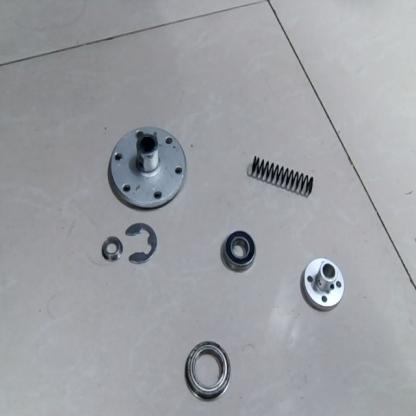FOD: (106, 122, 188, 214), (248, 150, 319, 201), (183, 338, 234, 403), (298, 254, 345, 315), (218, 226, 259, 272), (124, 220, 160, 266), (98, 233, 124, 264)
